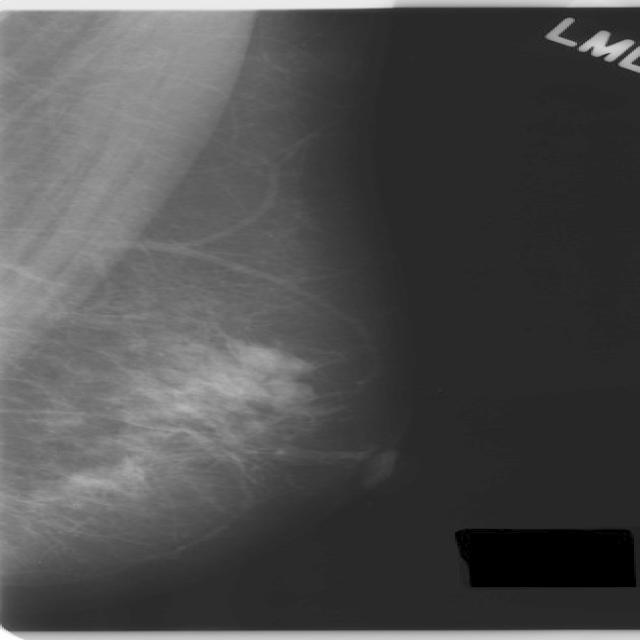tumour: (191, 330, 315, 406)
